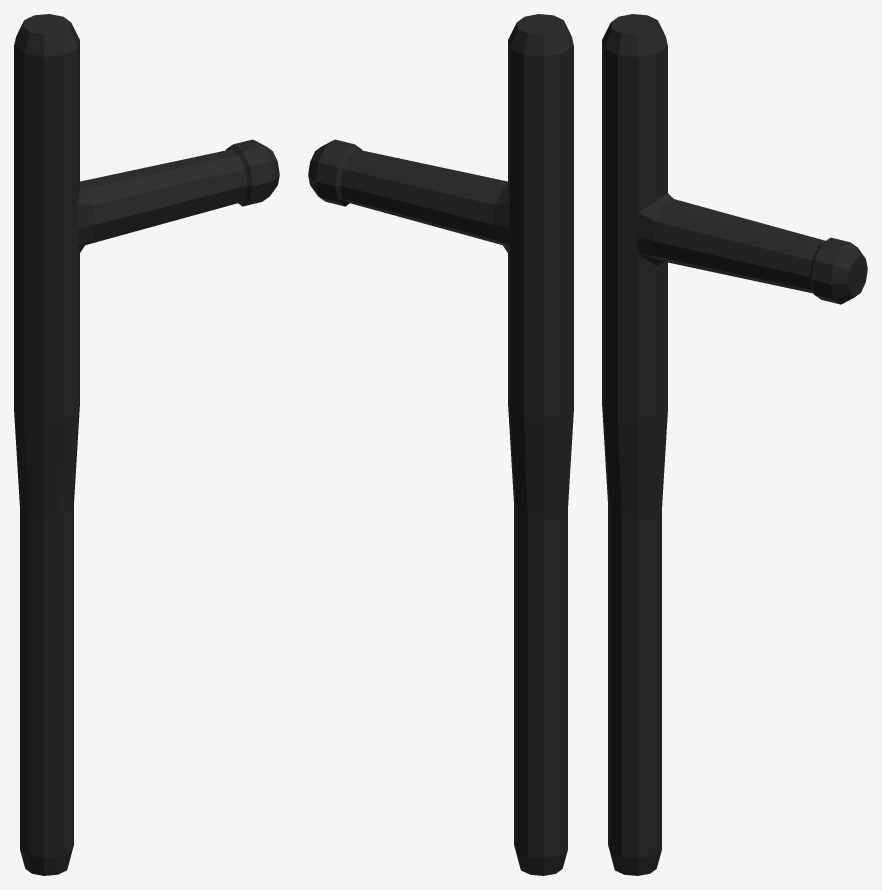
Rendered from Police_Baton.fbx.
The picture shows the model from 3 angles, left to right: view 1: azimuth 30°, elevation 25°; view 2: azimuth 150°, elevation 25°; view 3: azimuth 330°, elevation 25°; orthographic projection.
Parts seen in each view (by area): view 1: Police Baton; view 2: Police Baton; view 3: Police Baton.
Part boxes in pixels (<box>): Police Baton: <box>14,14,279,875</box>; Police Baton: <box>308,14,573,875</box>; Police Baton: <box>602,14,867,875</box>.
Size of the model in its own units: 265 by 851 by 62.6.
1 material, 1 textured.
